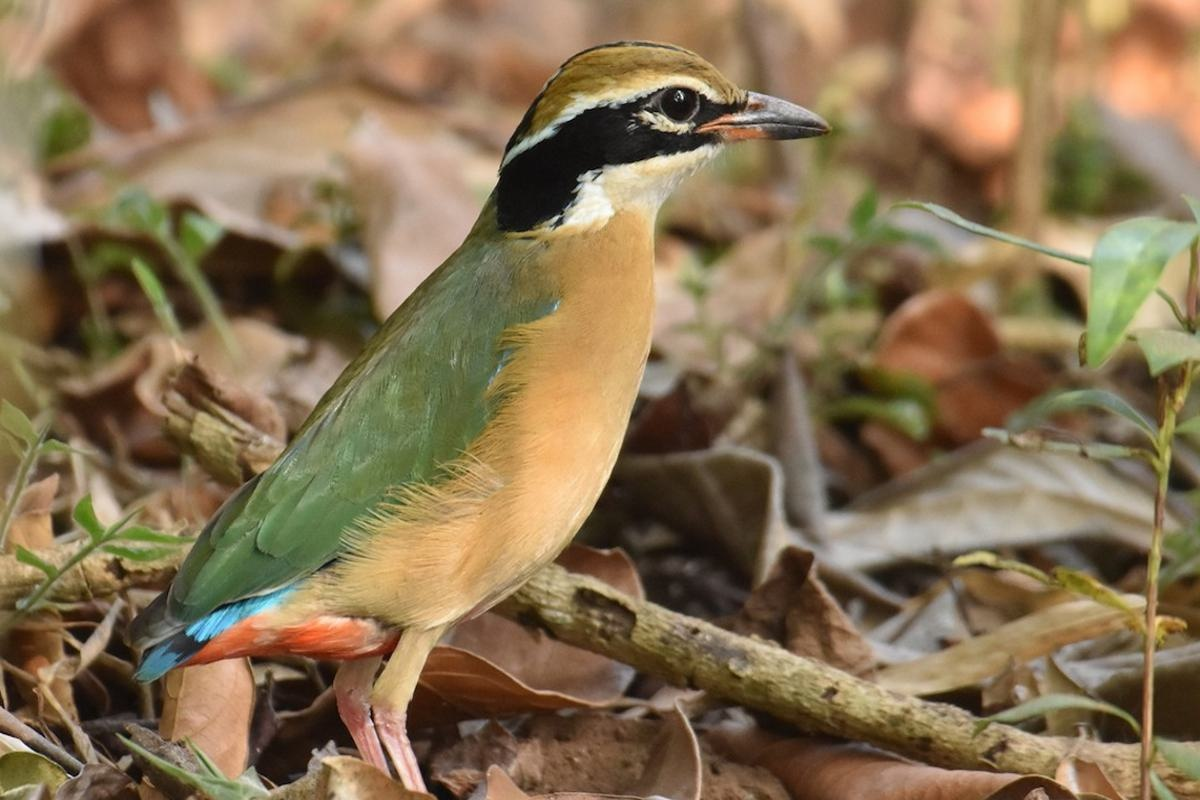pitta: (160, 36, 851, 752)
